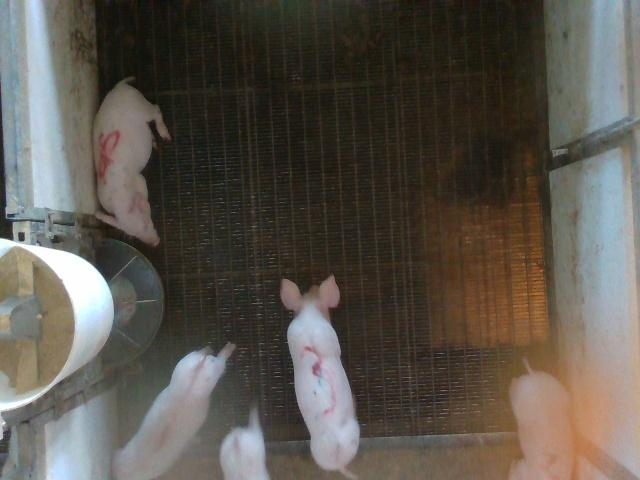pig-1: (112, 344, 235, 479)
pig-2: (509, 370, 574, 478)
pig-3: (281, 275, 359, 476)
pig-5: (94, 76, 171, 246)
